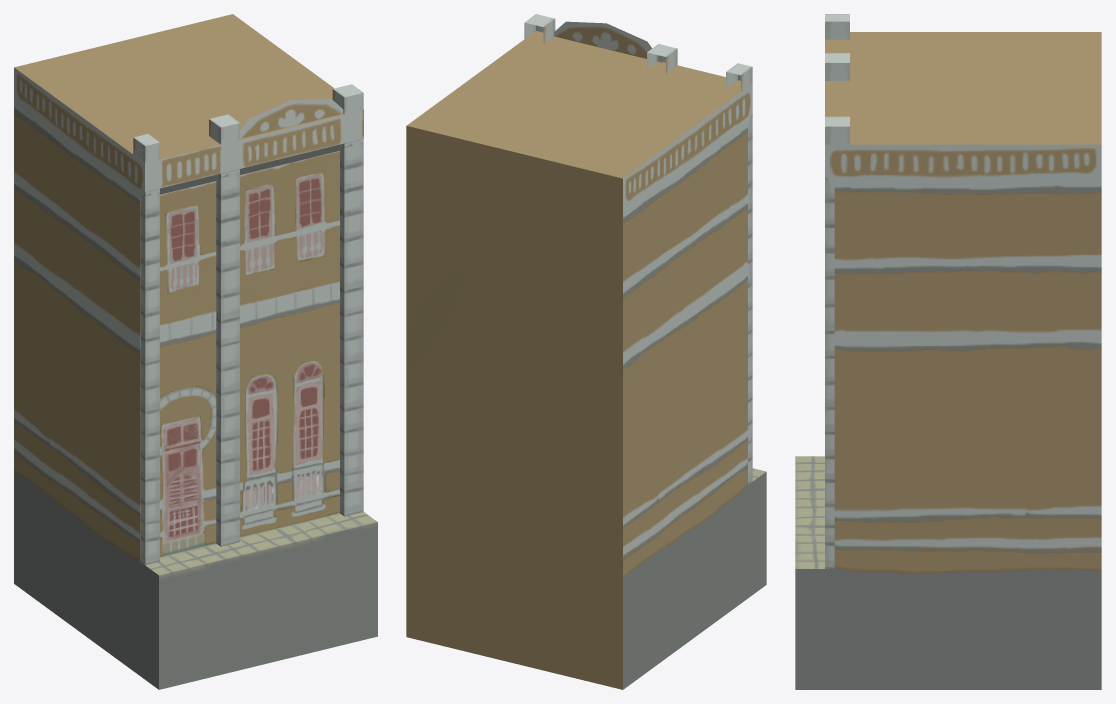
File: Predio_Antigo_3.glb
The picture shows the model from 3 angles, left to right: view 1: azimuth 30°, elevation 25°; view 2: azimuth 150°, elevation 25°; view 3: azimuth 270°, elevation 25°; orthographic projection. The views are drawn at different scales.
Visible parts, largest first — view 1: Predio_Antigo_3; view 2: Predio_Antigo_3; view 3: Predio_Antigo_3.
Part boxes in pixels (<box>): Predio_Antigo_3: <box>14,14,377,689</box>; Predio_Antigo_3: <box>406,14,766,689</box>; Predio_Antigo_3: <box>795,14,1101,689</box>.
Size of the model in its own units: 2 by 4.74 by 2.29.
Materials: 1 (1 with a texture image).
